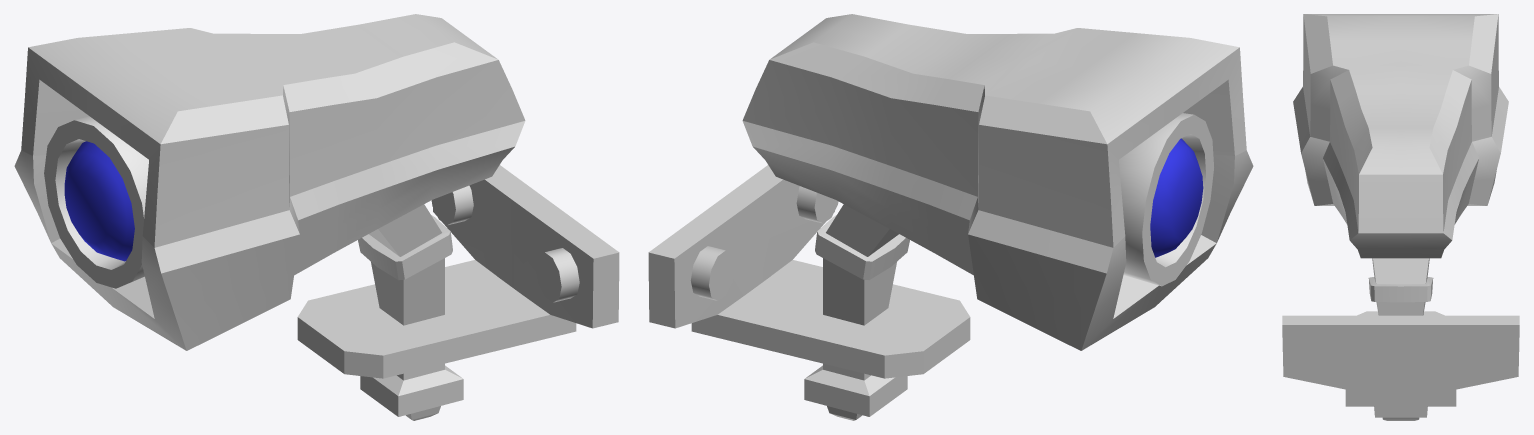
The model's file is cam_low.fbx.
The picture shows the model from 3 angles, left to right: view 1: azimuth 30°, elevation 25°; view 2: azimuth 150°, elevation 25°; view 3: azimuth 270°, elevation 25°; orthographic projection. The views are drawn at different scales.
Visible parts, largest first — view 1: Cube.001, Cylinder.002, Cylinder.003; view 2: Cube.001, Cylinder.002, Cylinder.003; view 3: Cube.001.
Boxes of the visible parts, x1,y1,x2,y2 form: Cube.001: (14, 14, 619, 420); Cylinder.002: (44, 116, 148, 288); Cylinder.003: (431, 185, 579, 302); Cube.001: (648, 14, 1253, 420); Cylinder.002: (1119, 113, 1213, 286); Cylinder.003: (690, 186, 838, 300); Cube.001: (1282, 14, 1519, 420).
Bounding box in the file's own units: 243 × 148 × 206.
